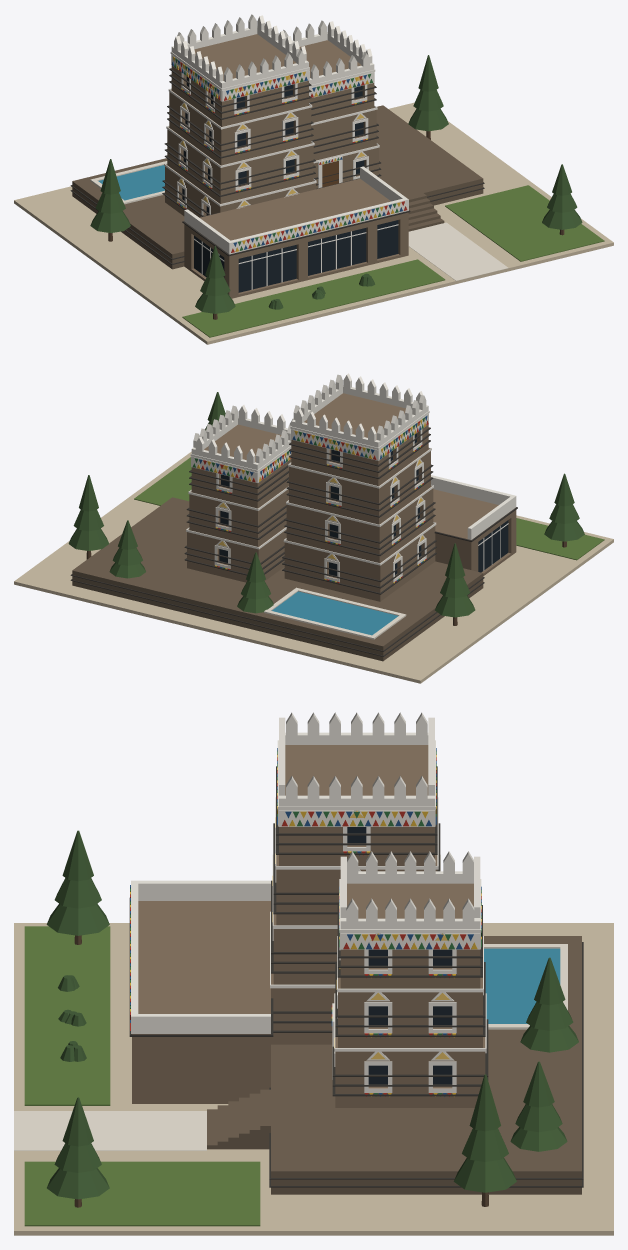
File: asiri.glb
The picture shows the model from 3 angles, top to bottom: view 1: azimuth 30°, elevation 25°; view 2: azimuth 150°, elevation 25°; view 3: azimuth 270°, elevation 25°; orthographic projection. The views are drawn at different scales.
Visible parts, largest first — view 1: Asiri_stone, Asiri_white, Asiri_pave, Asiri_lawn, Asiri_stone_base, Asiri_leaf, Asiri_glass, Asiri_slate, Asiri_coping, Asiri_water, Asiri_yellow, Asiri_red (+2 smaller); view 2: Asiri_stone, Asiri_pave, Asiri_stone_base, Asiri_white, Asiri_slate, Asiri_leaf, Asiri_lawn, Asiri_water, Asiri_glass, Asiri_coping, Asiri_yellow, Asiri_red (+2 smaller); view 3: Asiri_stone, Asiri_pave, Asiri_stone_base, Asiri_white, Asiri_lawn, Asiri_leaf, Asiri_slate, Asiri_coping, Asiri_water, Asiri_glass, Asiri_yellow, Asiri_red (+2 smaller).
Part boxes in pixels (x1,y1,x2,y2): Asiri_stone: (165, 34, 408, 298); Asiri_white: (164, 14, 408, 289); Asiri_pave: (14, 102, 613, 344); Asiri_lawn: (182, 185, 604, 337); Asiri_stone_base: (72, 105, 483, 269); Asiri_leaf: (90, 55, 582, 313); Asiri_glass: (182, 76, 398, 292); Asiri_slate: (70, 68, 484, 264); Asiri_coping: (90, 161, 508, 280); Asiri_water: (98, 165, 164, 200); Asiri_yellow: (173, 56, 400, 251); Asiri_red: (178, 62, 407, 252); Asiri_stone: (187, 393, 516, 601); Asiri_pave: (14, 451, 613, 683); Asiri_stone_base: (72, 497, 483, 661); Asiri_white: (186, 373, 516, 582); Asiri_slate: (70, 427, 517, 656); Asiri_leaf: (68, 392, 584, 617); Asiri_lawn: (134, 457, 604, 560); Asiri_water: (272, 591, 398, 635); Asiri_glass: (219, 433, 508, 575); Asiri_coping: (264, 587, 406, 639); Asiri_yellow: (197, 419, 426, 583); Asiri_red: (201, 420, 428, 583); Asiri_stone: (132, 745, 485, 1107); Asiri_pave: (14, 923, 613, 1235); Asiri_stone_base: (207, 936, 581, 1194); Asiri_white: (131, 712, 486, 1092); Asiri_lawn: (24, 926, 260, 1226); Asiri_leaf: (46, 830, 578, 1199); Asiri_slate: (129, 766, 583, 1187); Asiri_coping: (14, 944, 567, 1150); Asiri_water: (484, 948, 560, 1023); Asiri_glass: (347, 827, 452, 1084); Asiri_yellow: (130, 754, 481, 1096); Asiri_red: (130, 757, 481, 1096).
Bounding box in the file's own units: 34 × 14.99 × 28.
